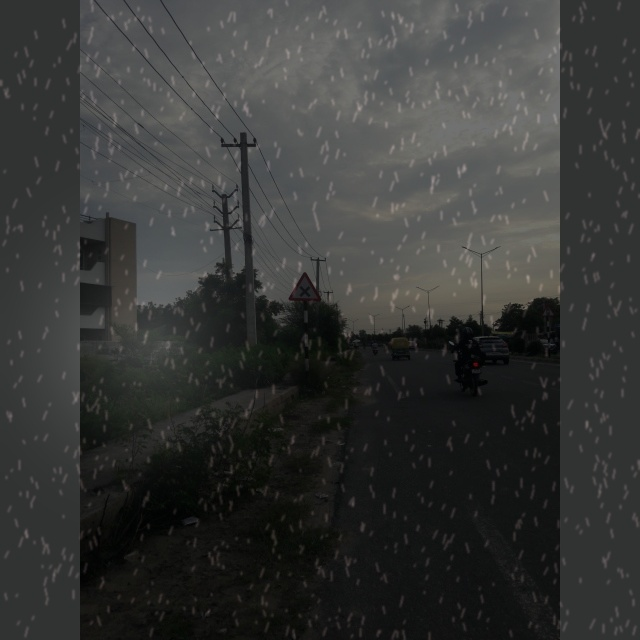Cross_Road: (287, 266, 324, 305)
